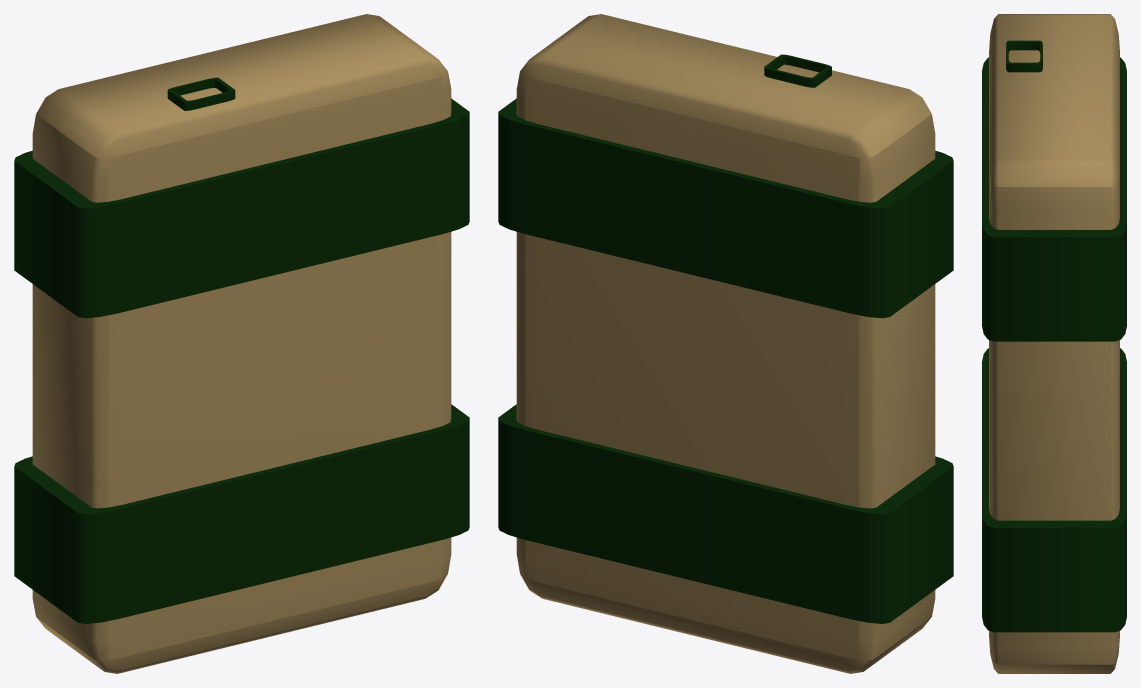
The picture shows the model from 3 angles, left to right: view 1: azimuth 30°, elevation 25°; view 2: azimuth 150°, elevation 25°; view 3: azimuth 270°, elevation 25°; orthographic projection. The views are drawn at different scales.
Visible parts, largest first — view 1: Cube.073; view 2: Cube.073; view 3: Cube.073.
Boxes of the visible parts, left/top/right/bottom form: Cube.073: left=14, top=14, right=469, bottom=673; Cube.073: left=498, top=14, right=953, bottom=673; Cube.073: left=982, top=14, right=1126, bottom=673.
Size of the model in its own units: 143 by 192 by 48.19.
